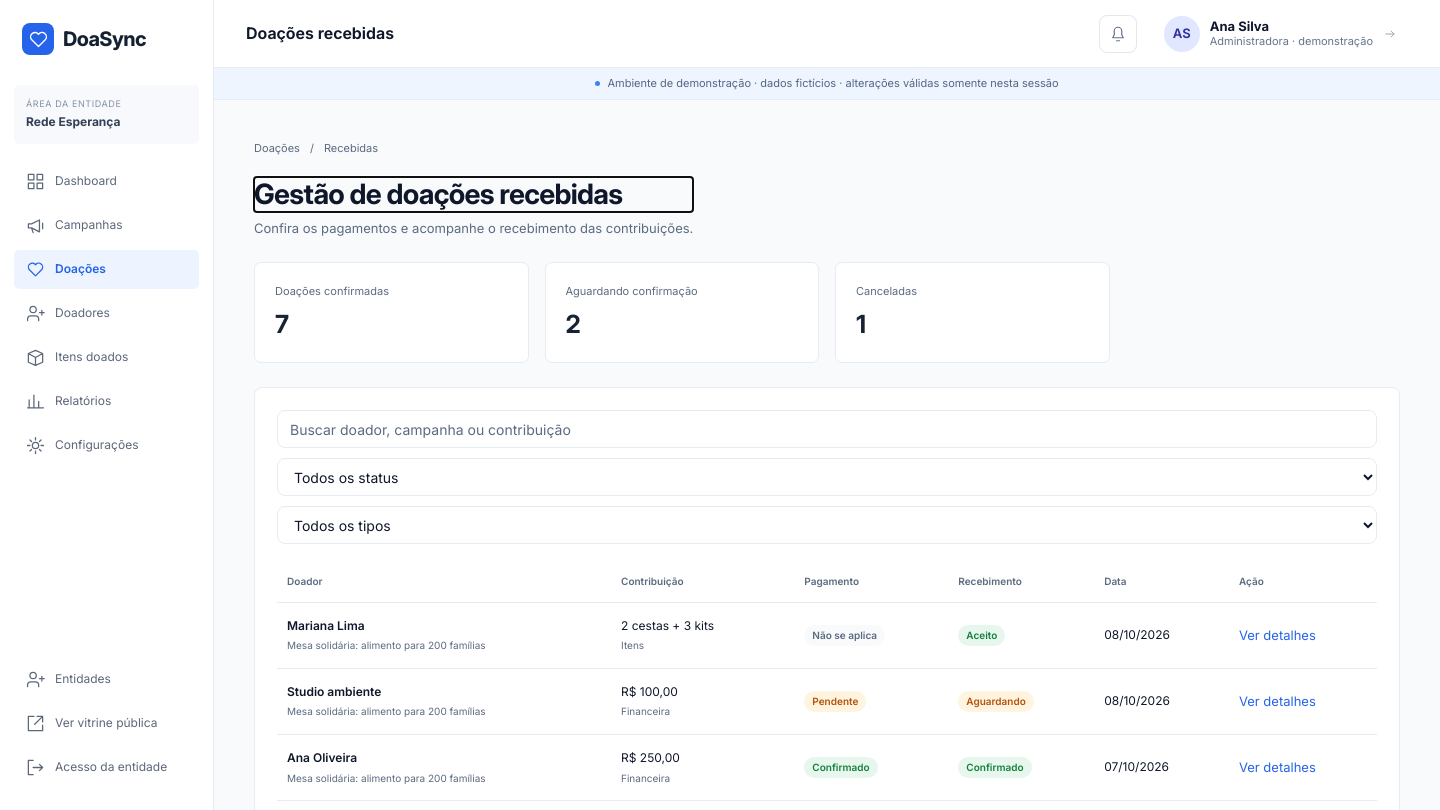
Test: gestão de doações recebidas (DEV-DOA) › doação financeira pendente depende do provedor e não pode ser confirmada aqui
Check: the heading "Gestão de doações recebidas" is shown, box [254, 177, 622, 211]
Click the button with aria-label "Ver doação 2 de Studio ambiente" at (1277, 701), box [1239, 691, 1316, 711]
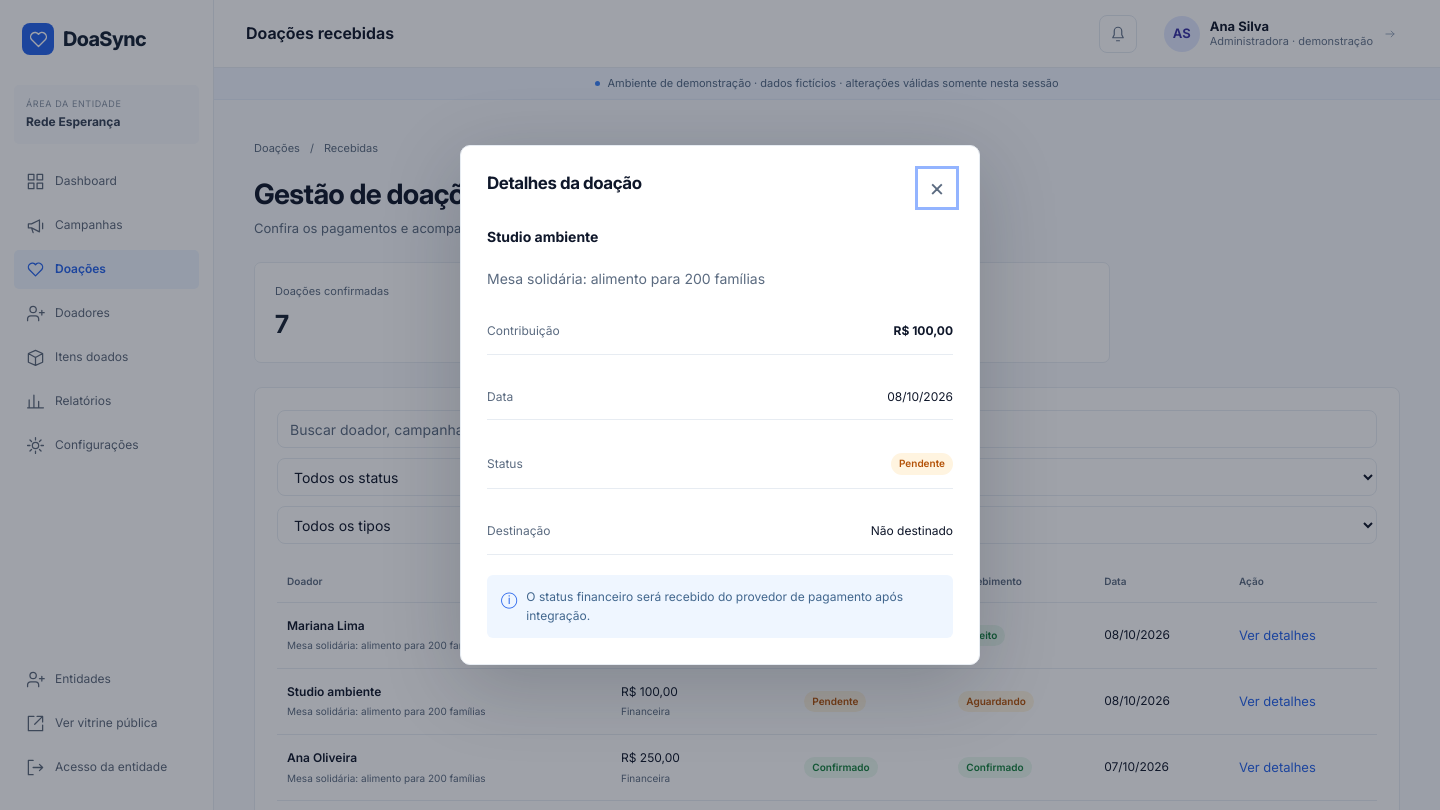
Check: the text "O status financeiro será recebido do provedor de pagamento após integração." is shown, box [526, 586, 939, 626]
